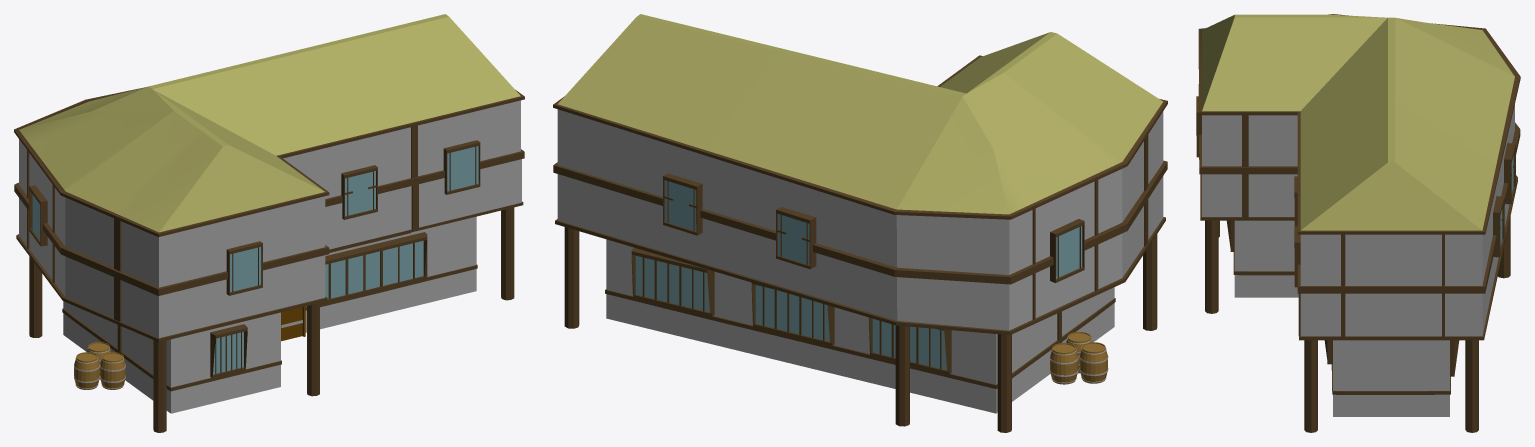
File: House2.fbx
3 renders of one model, left to right at view 1: azimuth 30°, elevation 25°; view 2: azimuth 150°, elevation 25°; view 3: azimuth 270°, elevation 25°, orthographic. The views are drawn at different scales.
Parts seen in each view (by area): view 1: House2; view 2: House2; view 3: House2.
Boxes of the visible parts, <box> form: House2: <box>14,14,524,432</box>; House2: <box>553,14,1167,432</box>; House2: <box>1196,14,1520,432</box>.
Bounding box in the file's own units: 8.43 × 4.65 × 5.3.
